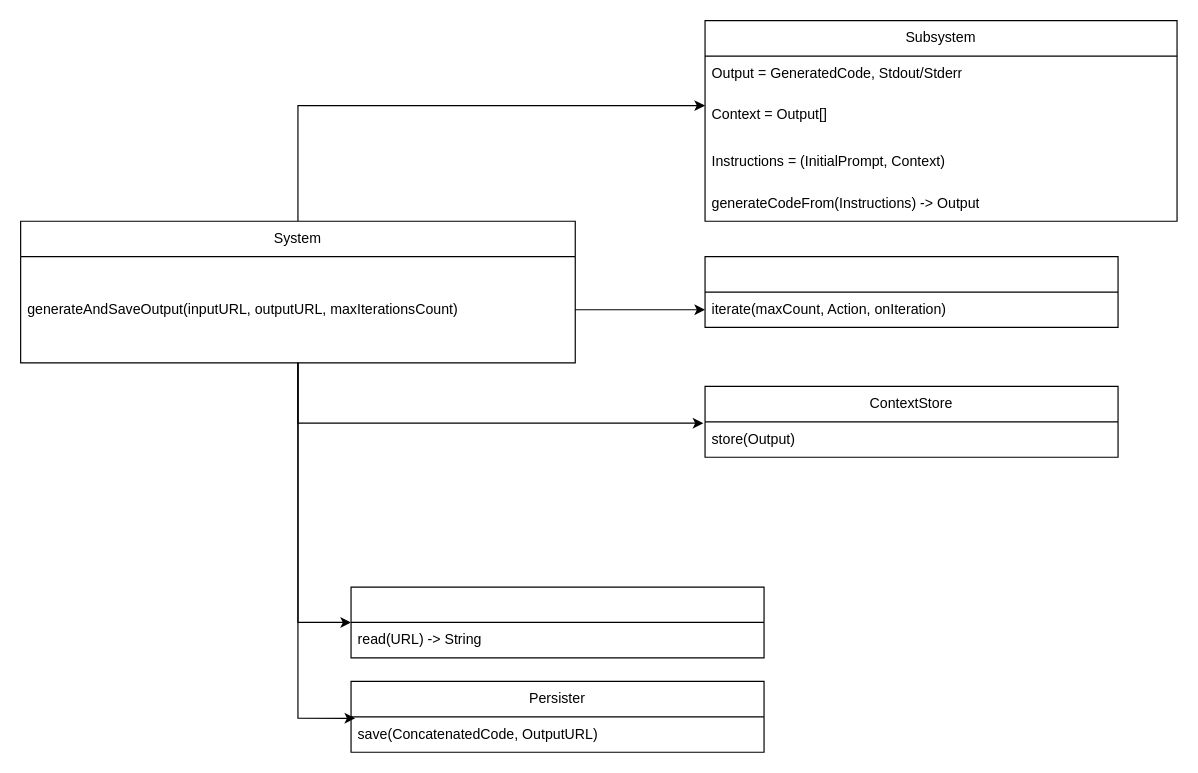
This 1198x773 diagram has some shape labels left out. The shapes that lost their labels are listed below. From the top down, each one's box as (x1, y1, x2, y2) in pixels, then its label:
(704, 255, 1118, 327): Iterator
(350, 586, 764, 658): Reader
